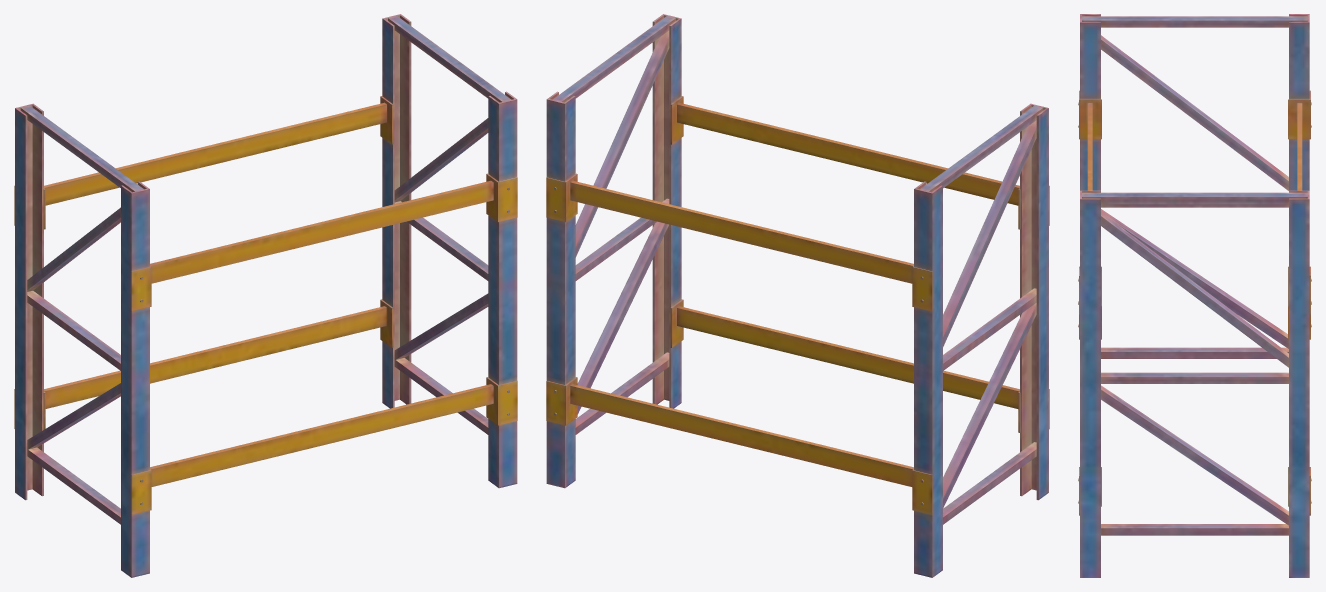
Rendered from ss-pallet-rack.lod0.glb.
The picture shows the model from 3 angles, left to right: view 1: azimuth 30°, elevation 25°; view 2: azimuth 150°, elevation 25°; view 3: azimuth 270°, elevation 25°; orthographic projection.
Visible parts, largest first — view 1: PalletRacking_1_PalletRacking_1_0; view 2: PalletRacking_1_PalletRacking_1_0; view 3: PalletRacking_1_PalletRacking_1_0.
Part boxes in pixels (<box>): PalletRacking_1_PalletRacking_1_0: <box>14,14,517,577</box>; PalletRacking_1_PalletRacking_1_0: <box>546,14,1049,577</box>; PalletRacking_1_PalletRacking_1_0: <box>1078,14,1311,577</box>.
Size of the model in its own units: 4.2 by 4 by 2.23.
1 material, 1 textured.
